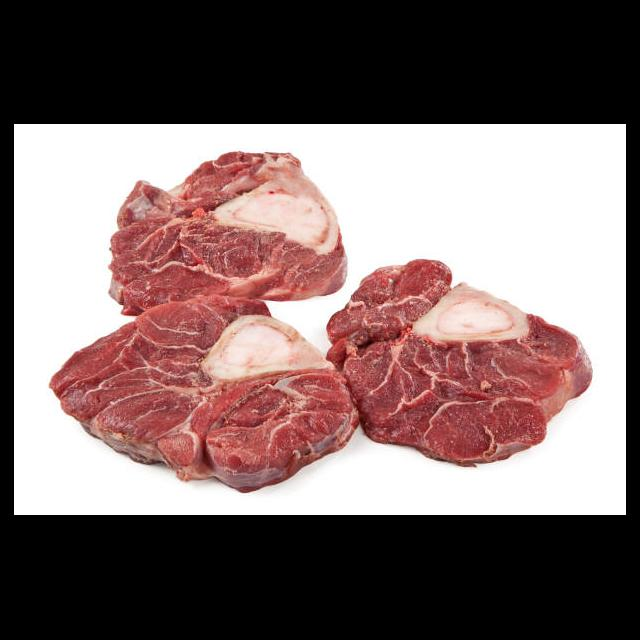beef: (48, 292, 360, 494), (325, 260, 594, 470), (108, 150, 351, 318)
